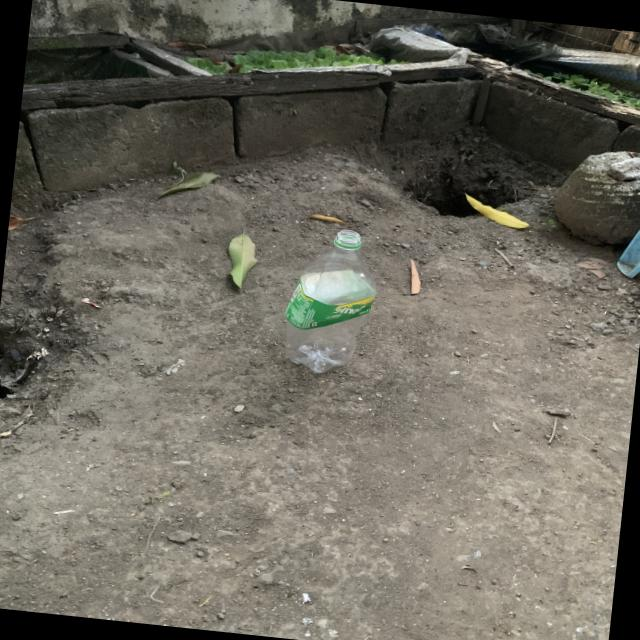Bottle: (285, 229, 376, 373)
